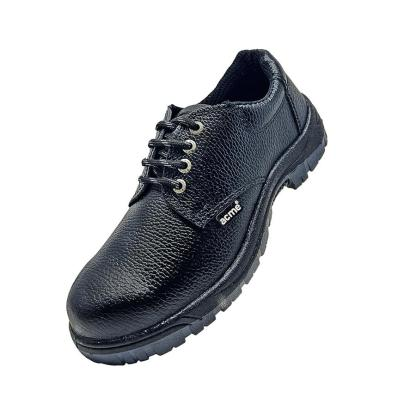bota: (61, 42, 332, 369)
